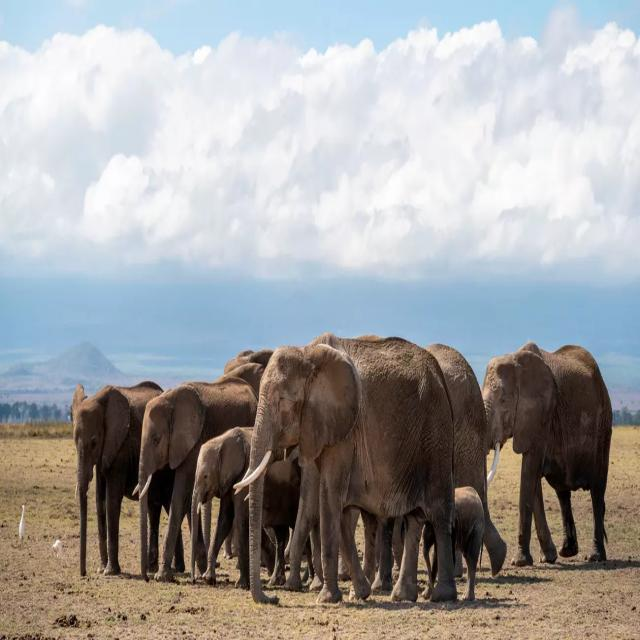Elephant: (242, 326, 458, 611), (478, 338, 614, 590), (68, 375, 132, 578), (142, 384, 191, 581), (196, 428, 242, 584)
